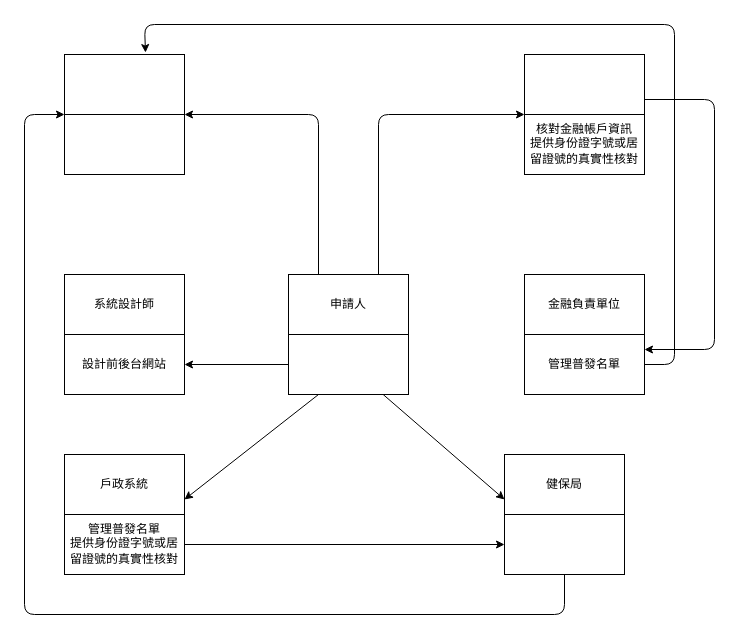
The diagram is 740 pixels wide and 640 high, and some of its shapes have lost their labels. Each missing label, with the centre of its shape:
"審核申請者資料 核對金融帳戶資訊" belongs at pixel 124 144.
"政府審核人員" belongs at pixel 124 84.
"比對健保卡資料 提供身份證字號或居留證號的真實性核對" belongs at pixel 564 544.
"申請人填寫資料" belongs at pixel 348 364.
"第三方金融機構" belongs at pixel 584 84.
